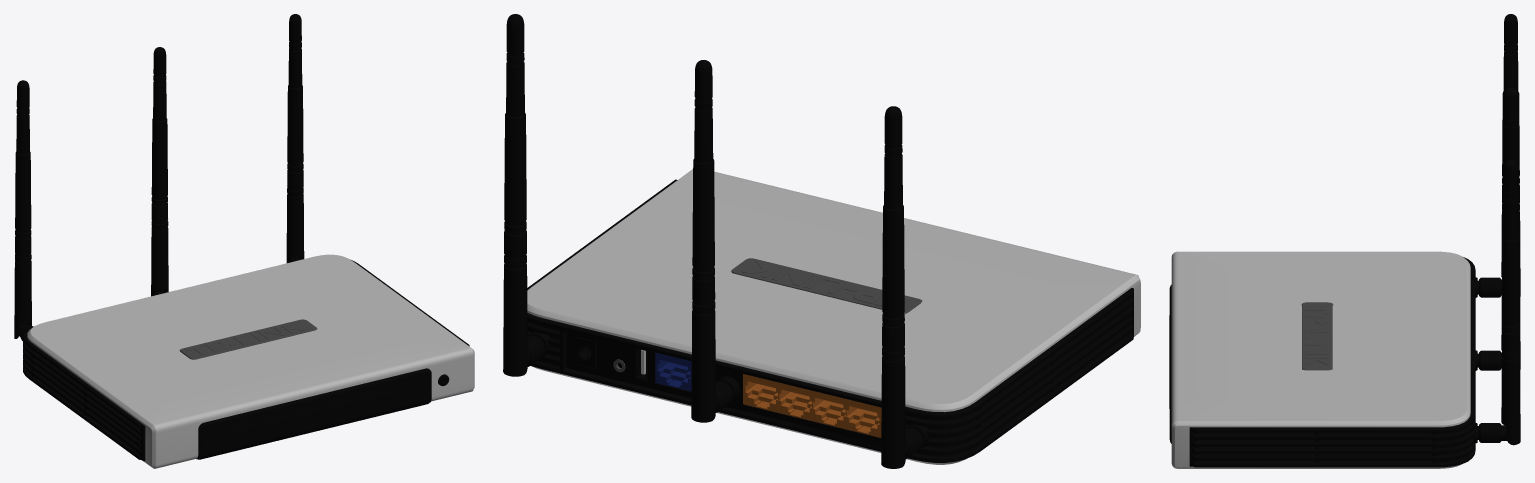
File: router.FBX
3 views of the same model, side by side, from view 1: azimuth 30°, elevation 25°; view 2: azimuth 150°, elevation 25°; view 3: azimuth 270°, elevation 25° (orthographic). The views are drawn at different scales.
Parts seen in each view (by area): view 1: Box002, Group004, Line010, Line008, Line009; view 2: Box002, Group004, Line010, Line009, Line008, Line004, Cylinder002; view 3: Box002, Group004, Line009, Line010, Line008, Cylinder003, Cylinder002, Cylinder004.
Part boxes in pixels (box(x1,y1,x2,y2)): Box002: box(27, 254, 474, 468); Group004: box(23, 259, 469, 461); Line010: box(14, 80, 31, 338); Line008: box(151, 47, 168, 296); Line009: box(286, 14, 304, 262); Box002: box(527, 169, 1140, 464); Group004: box(527, 179, 1133, 462); Line010: box(881, 106, 905, 468); Line009: box(503, 14, 527, 376); Line008: box(691, 60, 715, 422); Line004: box(574, 336, 881, 437); Cylinder002: box(715, 376, 740, 412); Box002: box(1169, 251, 1470, 468); Group004: box(1189, 257, 1475, 467); Line009: box(1501, 159, 1520, 445); Line010: box(1501, 14, 1520, 296); Line008: box(1501, 87, 1520, 369); Cylinder003: box(1471, 423, 1506, 443); Cylinder002: box(1475, 350, 1501, 370); Cylinder004: box(1475, 277, 1501, 297).
Size of the model in its own units: 197 by 155 by 166.
